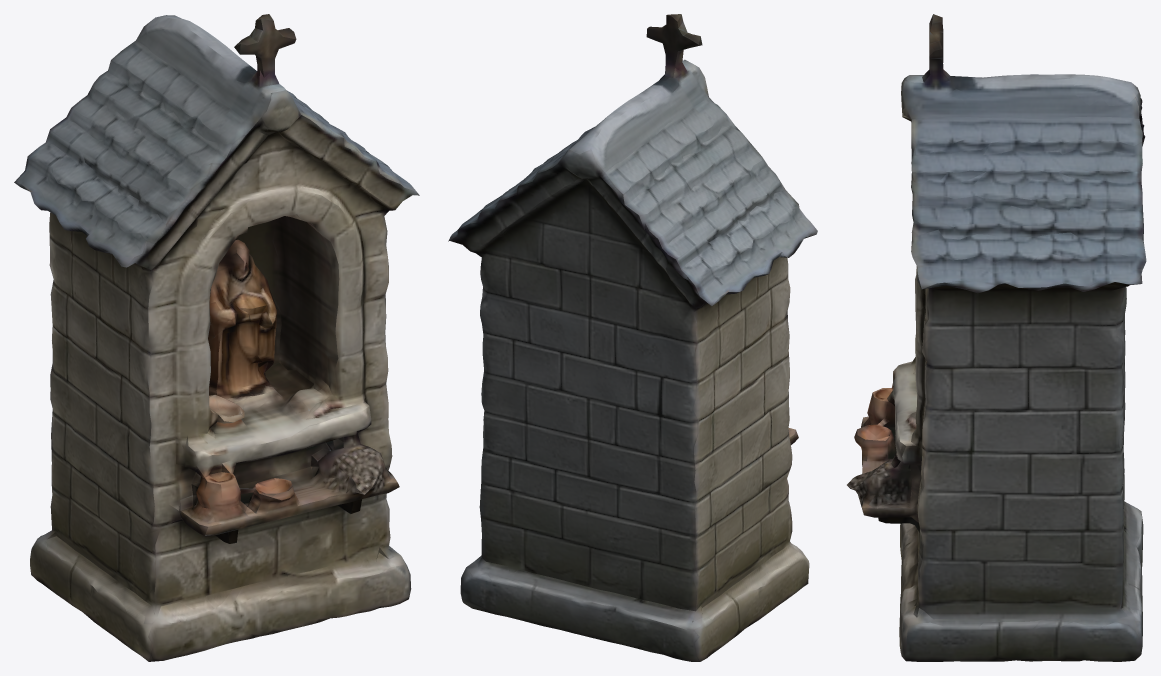
The model's file is roadside_shrine.glb.
3 views of the same model, side by side, from view 1: azimuth 30°, elevation 25°; view 2: azimuth 150°, elevation 25°; view 3: azimuth 270°, elevation 25° (orthographic). The views are drawn at different scales.
Parts seen in each view (by area): view 1: Shrine; view 2: Shrine; view 3: Shrine.
Part boxes in pixels (bbox=[...]): Shrine: bbox=[14, 14, 419, 661]; Shrine: bbox=[448, 14, 817, 661]; Shrine: bbox=[847, 14, 1146, 661].
Size of the model in its own units: 0.9417 by 1.8 by 0.837.
Materials: 1 (1 with a texture image).
